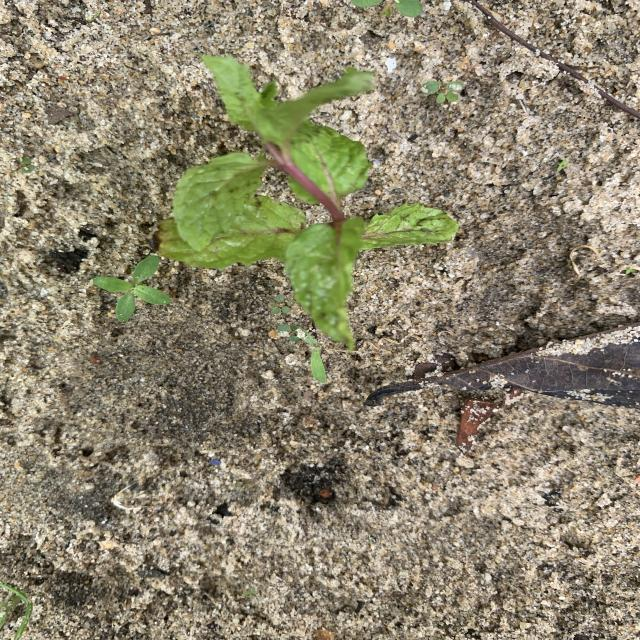crop: (161, 55, 457, 350)
weed: (92, 255, 171, 320), (295, 328, 327, 384), (0, 585, 31, 639), (423, 78, 463, 103), (381, 0, 423, 18), (269, 295, 291, 314), (277, 323, 298, 342), (351, 0, 383, 8), (20, 157, 35, 173), (557, 159, 567, 172)
